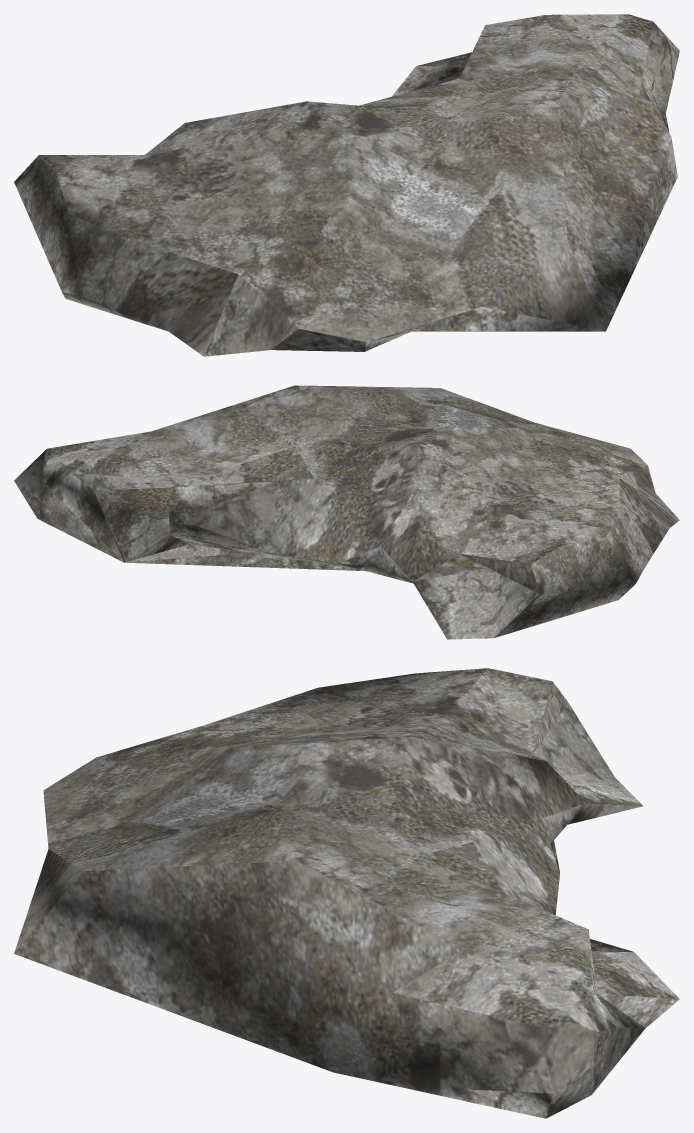
Rendered from stone2.fbx.
3 views of the same model, one above another, from view 1: azimuth 30°, elevation 25°; view 2: azimuth 150°, elevation 25°; view 3: azimuth 270°, elevation 25° (orthographic). The views are drawn at different scales.
Parts seen in each view (by area): view 1: stone_2; view 2: stone_2; view 3: stone_2.
Part boxes in pixels (left/top/right/bottom): stone_2: left=14, top=14, right=679, bottom=356; stone_2: left=14, top=385, right=679, bottom=639; stone_2: left=14, top=668, right=679, bottom=1118.
Bounding box in the file's own units: 20.84 × 3.91 × 15.34.
